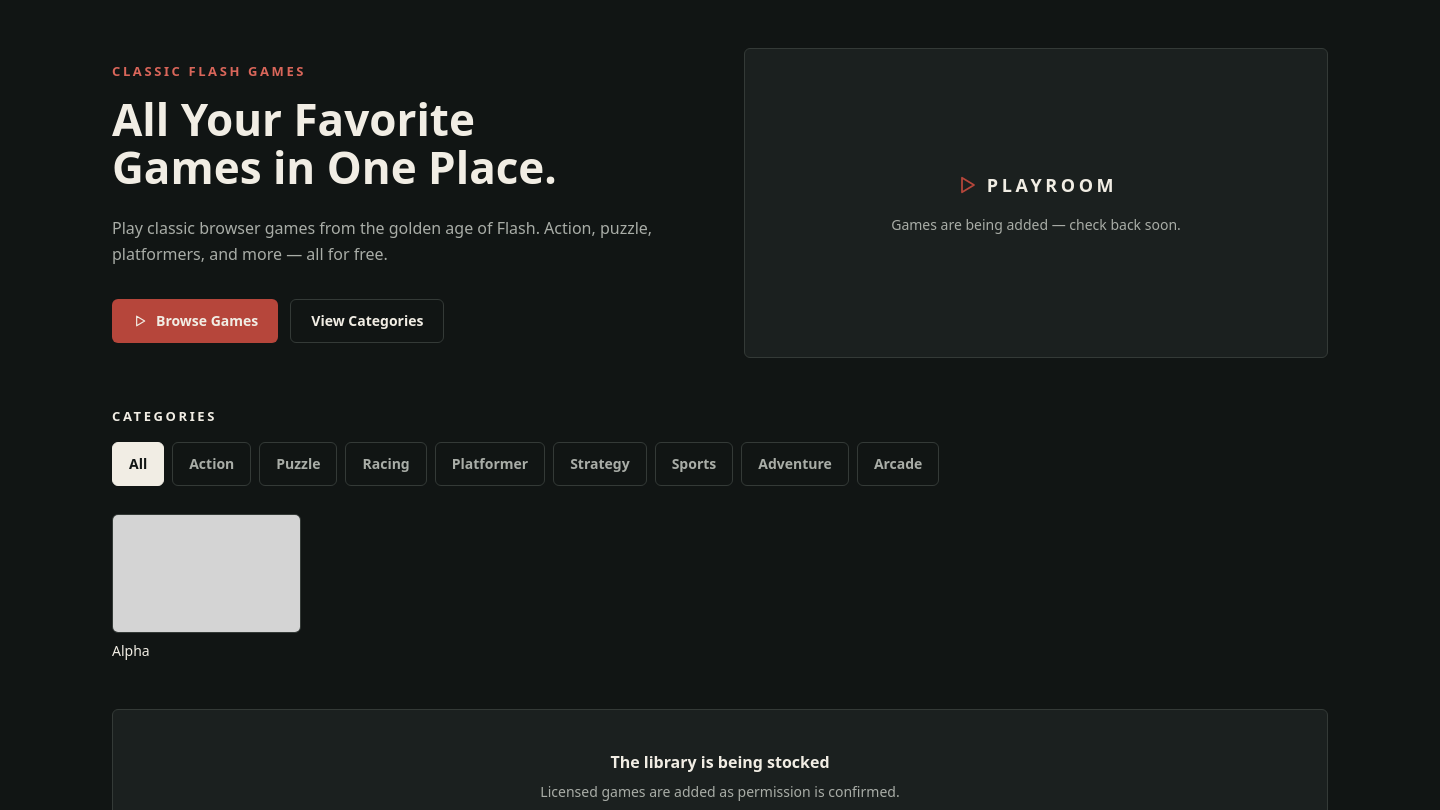
Test case: HomePage › shows an empty state for a category with no games
Click the radio button labelled "Racing".
click(386, 464)  # box x1=346 y1=442 x2=427 y2=486
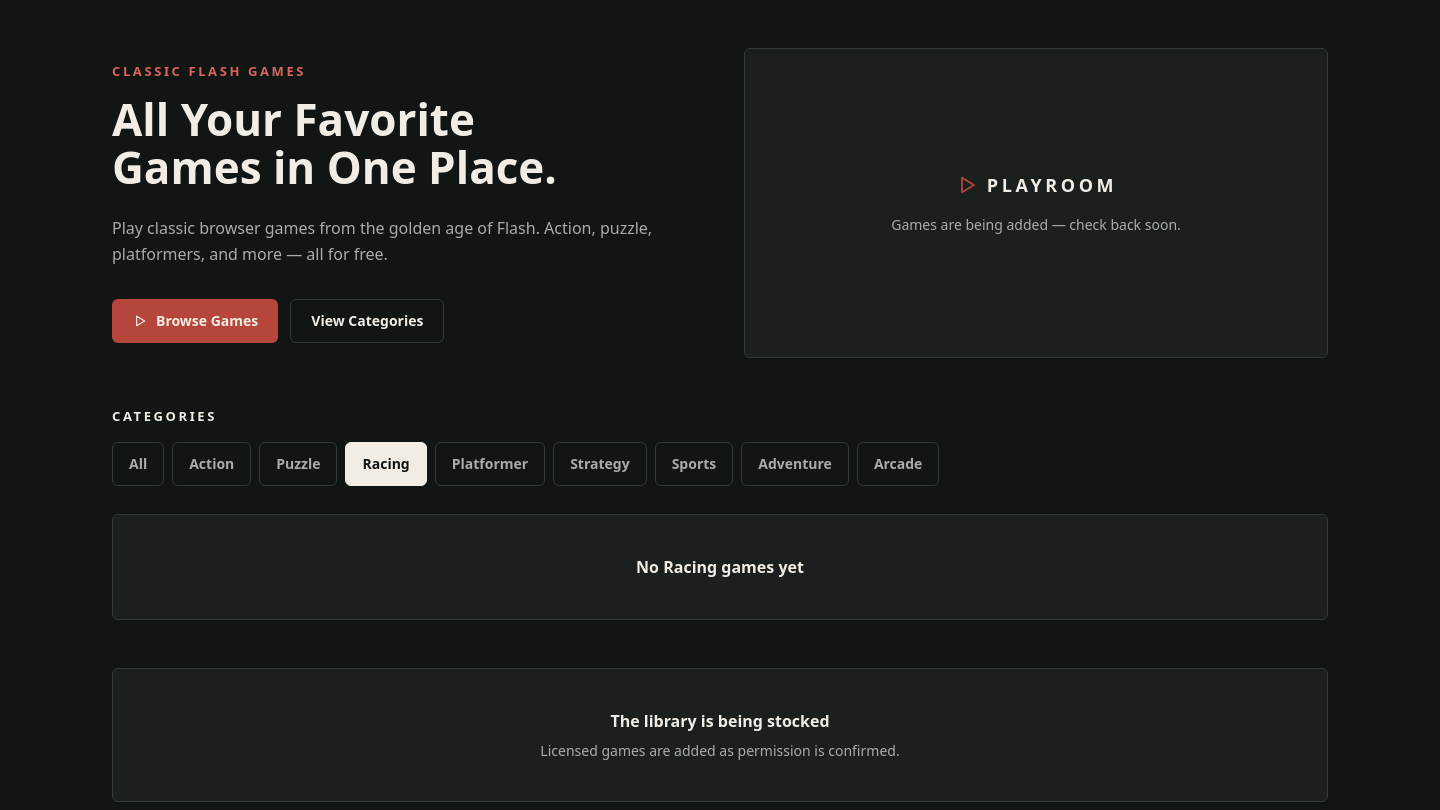
Now the text "No Racing games yet" is shown, box x1=636 y1=556 x2=804 y2=578
